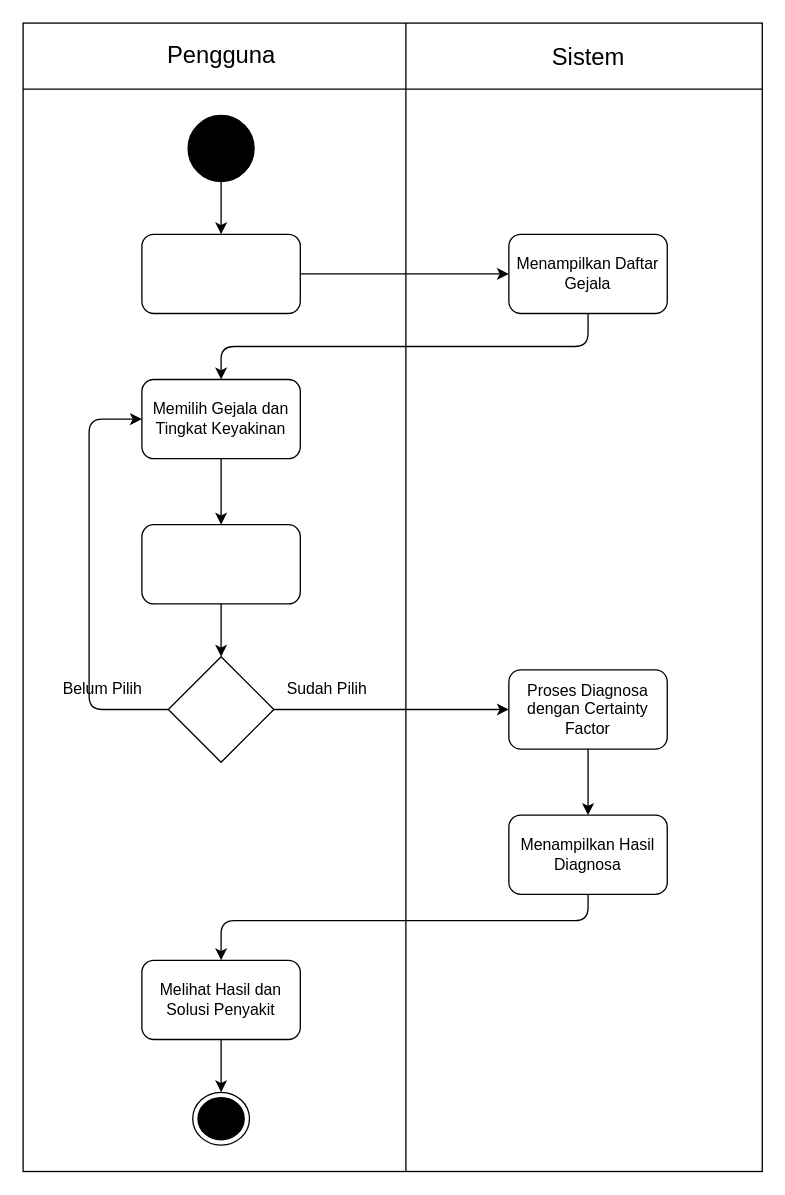
Image size: 785x1195. Some labels were removed from this diagram. The shapes that lost their labels are listed below. From the top down, each one's box as (x1, y1, x2, y2) in pixels, then its label:
(141, 233, 300, 314): Membuka Halaman Diagnosa
(141, 523, 300, 604): Klik Tombol Dapatkan Hasil
(167, 655, 274, 762): Validasi
